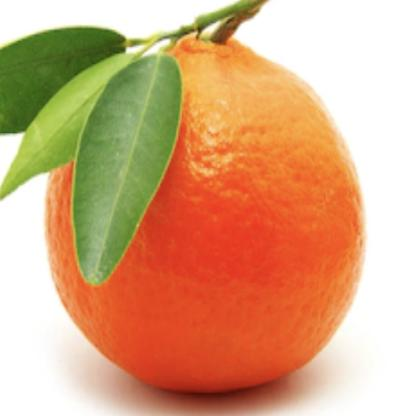fresh: (44, 23, 362, 394)
